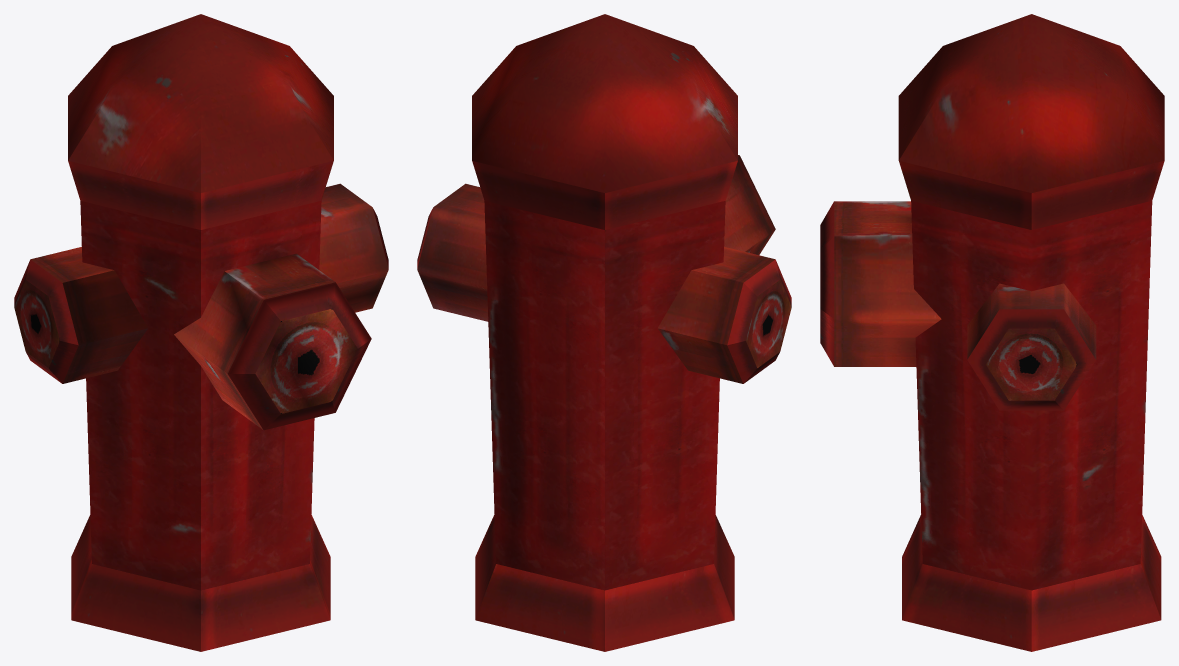
Rendered from hydrant_LOD1.FBX.
3 views of the same model, side by side, from view 1: azimuth 30°, elevation 25°; view 2: azimuth 150°, elevation 25°; view 3: azimuth 270°, elevation 25° (orthographic).
Parts seen in each view (by area): view 1: Cylinder01; view 2: Cylinder01; view 3: Cylinder01.
Part boxes in pixels (x1,y1,x2,y2): Cylinder01: (14, 14, 388, 651); Cylinder01: (417, 14, 791, 651); Cylinder01: (820, 14, 1164, 651).
Bounding box in the file's own units: 4.8 × 8.02 × 4.35.
1 material, 1 textured.
